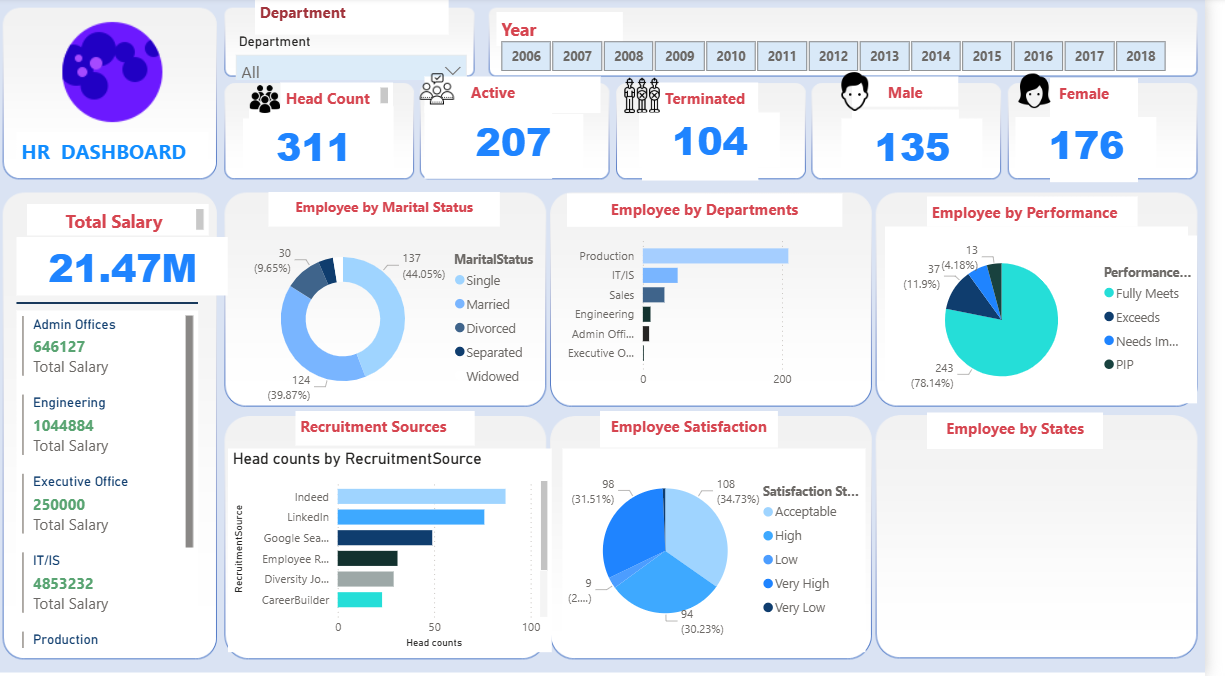

The page's visual inventory and layout, read from the dashboard file:
{"tool":"powerbi","page":{"name":"Page 1","canvas":[1280,720],"ordinal":0},"visuals":[{"type":"image","box":[20.7,15.9,203.6,127.2],"z":0},{"type":"textbox","box":[20.7,143.2,203.6,41.4],"z":1000},{"type":"textbox","box":[273.3,0,205,40],"z":2000},{"type":"textbox","box":[529.1,15.1,134.2,35.9],"z":3000},{"type":"slicer","fields":{"Values":["HRData.Department"]},"box":[243.8,34,264.6,54.8],"z":4000},{"type":"slicer","fields":{"Values":["HRData.Hiring Year"]},"box":[508.4,39.7,754,45.4],"z":5000},{"type":"textbox","box":[300.6,90.7,119.3,27],"z":6000},{"type":"textbox","box":[1116.7,86.7,93.3,31.7],"z":7000},{"type":"textbox","box":[453.3,85,186.7,38.3],"z":8000},{"type":"textbox","box":[695,90,111.7,31.7],"z":9000},{"type":"textbox","box":[906.6,84.3,112.9,31.8],"z":10000},{"type":"textbox","box":[266.7,116.7,153.3,68.3],"z":11000},{"type":"textbox","box":[288.3,206.7,245,36.7],"z":12000},{"type":"textbox","box":[605,208.3,291.7,35],"z":13000},{"type":"textbox","box":[986.7,211.7,223.3,31.7],"z":14000},{"type":"textbox","box":[640,438.3,188.3,38.3],"z":15000},{"type":"textbox","box":[21,532,188,150],"z":16000},{"type":"textbox","box":[316.7,438.3,190,36.7],"z":17000},{"type":"textbox","box":[986.7,440,186.7,38.3],"z":18000},{"type":"textbox","box":[453.3,116.7,135,76.7],"z":19000},{"type":"textbox","box":[683.3,120,123.3,75],"z":20000},{"type":"textbox","box":[906.7,120,113.3,71.7],"z":21000},{"type":"textbox","box":[1116.7,118.3,93.3,78.3],"z":22000},{"type":"textbox","box":[987,258,223,151],"z":23000},{"type":"image","box":[256.1,92.3,55.7,31.8],"z":24000},{"type":"image","box":[439,77.9,55.7,39.8],"z":25000},{"type":"image","box":[655.3,84.3,57.3,39.8],"z":26000},{"type":"image","box":[886,77.9,47.7,44.5],"z":27000},{"type":"image","box":[1067.3,79.5,65.2,39.8],"z":28000},{"type":"textSlicer","box":[655.3,531.3,190.9,151.1],"z":29000},{"type":"donutChart","fields":{"Y":["All Measures.Head counts"],"Category":["HRData.MaritalStatus"]},"box":[243.4,243.4,345.2,195.6],"z":30000},{"type":"barChart","fields":{"Category":["HRData.Department"],"Y":["All Measures.Head counts"]},"box":[588.5,245,332.4,178.1],"z":31000},{"type":"pieChart","fields":{"Y":["All Measures.Head counts"],"Category":["HRData.PerformanceScore"]},"box":[941.6,243.4,321.3,178.1],"z":32000},{"type":"barChart","fields":{"Y":["All Measures.Head counts"],"Category":["HRData.RecruitmentSource"]},"box":[245,478.8,343.6,216.3],"z":33000},{"type":"pieChart","fields":{"Y":["All Measures.Head counts"],"Series":["HRData.Satisfaction Status"]},"box":[599.7,478.8,321.3,216.3],"z":34000},{"type":"pieChart","fields":{"Y":["All Measures.Head counts"],"Category":["HRData.PerformanceScore"]},"box":[951.6,253.4,321.3,178.1],"z":35000},{"type":"filledMap","fields":{"Category":["HRData.State"]},"box":[941.6,478.8,321.3,216.3],"z":36000},{"type":"textbox","box":[31.8,219.5,192.5,33.4],"z":37000},{"type":"shape","box":[20.7,316.5,192.5,15.9],"z":38000},{"type":"card","fields":{"Values":["All Measures.Total Salary"]},"box":[20.7,254.5,224.3,62],"z":39000},{"type":"card","fields":{"Values":["All Measures.Head counts"]},"box":[260.9,128.8,149.5,57.3],"z":40000},{"type":"card","fields":{"Values":["All Measures.Female"]},"box":[1080,127.2,149.5,57.3],"z":41000},{"type":"card","fields":{"Values":["All Measures.Male"]},"box":[895.5,128.8,149.5,57.3],"z":42000},{"type":"card","fields":{"Values":["All Measures.Terminated"]},"box":[680.8,122.5,149.5,57.3],"z":43000},{"type":"card","fields":{"Values":["All Measures.Active"]},"box":[472.4,124.1,149.5,57.3],"z":44000},{"type":"multiRowCard","fields":{"Values":["HRData.Department","All Measures.Total Salary"]},"box":[20.7,332.4,192.5,362.7],"z":45000}]}

Visuals, with their boxes in screenshot pixels (x1, y1, x2, y2), scaled from the page's 1280x720 canvas onto the 1225x676 screenshot:
image: crop(20, 15, 215, 134)
textbox: crop(20, 134, 215, 173)
textbox: crop(262, 0, 458, 38)
textbox: crop(506, 14, 635, 48)
slicer - HRData.Department: crop(233, 32, 487, 83)
slicer - HRData.Hiring Year: crop(487, 37, 1208, 80)
textbox: crop(288, 85, 402, 111)
textbox: crop(1069, 81, 1158, 111)
textbox: crop(434, 80, 612, 116)
textbox: crop(665, 84, 772, 114)
textbox: crop(868, 79, 976, 109)
textbox: crop(255, 110, 402, 174)
textbox: crop(276, 194, 510, 229)
textbox: crop(579, 196, 858, 228)
textbox: crop(944, 199, 1158, 229)
textbox: crop(612, 412, 793, 447)
textbox: crop(20, 499, 200, 640)
textbox: crop(303, 412, 485, 446)
textbox: crop(944, 413, 1123, 449)
textbox: crop(434, 110, 563, 182)
textbox: crop(654, 113, 772, 183)
textbox: crop(868, 113, 976, 180)
textbox: crop(1069, 111, 1158, 185)
textbox: crop(945, 242, 1158, 384)
image: crop(245, 87, 298, 117)
image: crop(420, 73, 473, 111)
image: crop(627, 79, 682, 117)
image: crop(848, 73, 894, 115)
image: crop(1021, 75, 1084, 112)
textSlicer: crop(627, 499, 810, 641)
donutChart - All Measures.Head counts x HRData.MaritalStatus: crop(233, 229, 563, 412)
barChart - HRData.Department x All Measures.Head counts: crop(563, 230, 881, 397)
pieChart - All Measures.Head counts x HRData.PerformanceScore: crop(901, 229, 1209, 396)
barChart - All Measures.Head counts x HRData.RecruitmentSource: crop(234, 450, 563, 653)
pieChart - All Measures.Head counts x HRData.Satisfaction Status: crop(574, 450, 881, 653)
pieChart - All Measures.Head counts x HRData.PerformanceScore: crop(911, 238, 1218, 405)
filledMap - HRData.State: crop(901, 450, 1209, 653)
textbox: crop(30, 206, 215, 237)
shape: crop(20, 297, 204, 312)
card - All Measures.Total Salary: crop(20, 239, 234, 297)
card - All Measures.Head counts: crop(250, 121, 393, 175)
card - All Measures.Female: crop(1034, 119, 1177, 173)
card - All Measures.Male: crop(857, 121, 1000, 175)
card - All Measures.Terminated: crop(652, 115, 795, 169)
card - All Measures.Active: crop(452, 117, 595, 170)
multiRowCard - HRData.Department x All Measures.Total Salary: crop(20, 312, 204, 653)
